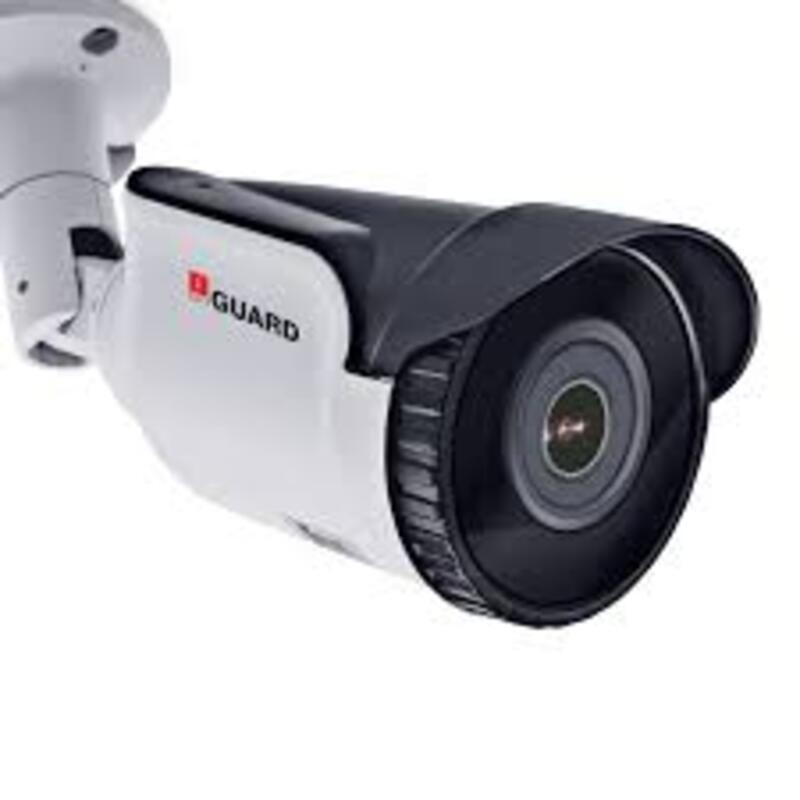bullet: (103, 180, 763, 644)
